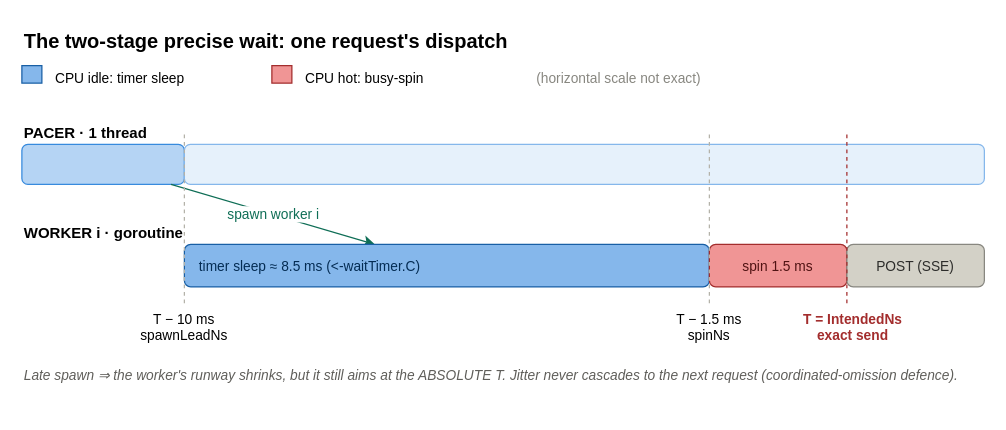
Some shapes in this 1006 by 430 pixel diagram are drawn without their labels. The shapes that lost their labels are listed below. From the top down, each one's centre as x and y in pixels, then its label:
At point 102,163: "sleeping".
At point 583,163: "sleeps until next request's (T − 10 ms), moves on immediately".
